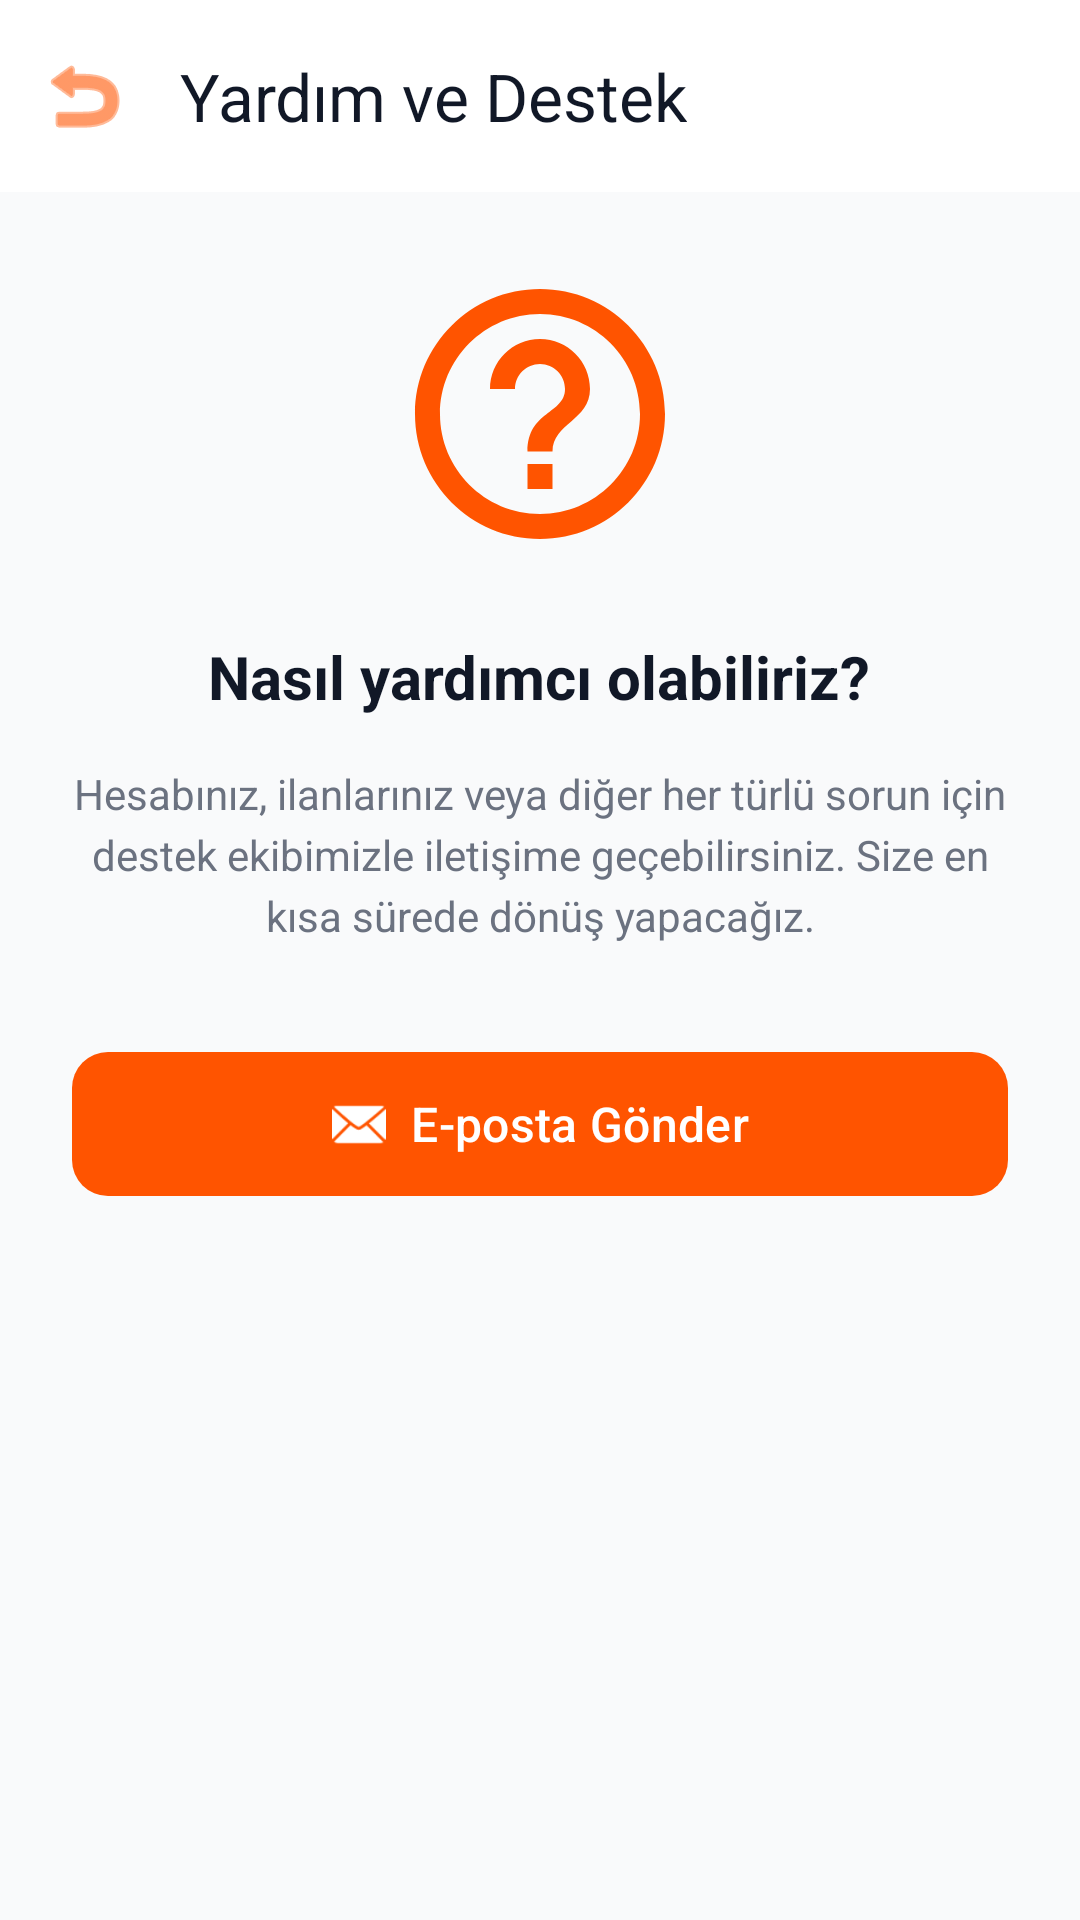

Icon bounding boxes for this 1080×1920 phone screenshot, format BBox(x1, y1, x2, y2):
help: BBox(415, 289, 665, 539)
